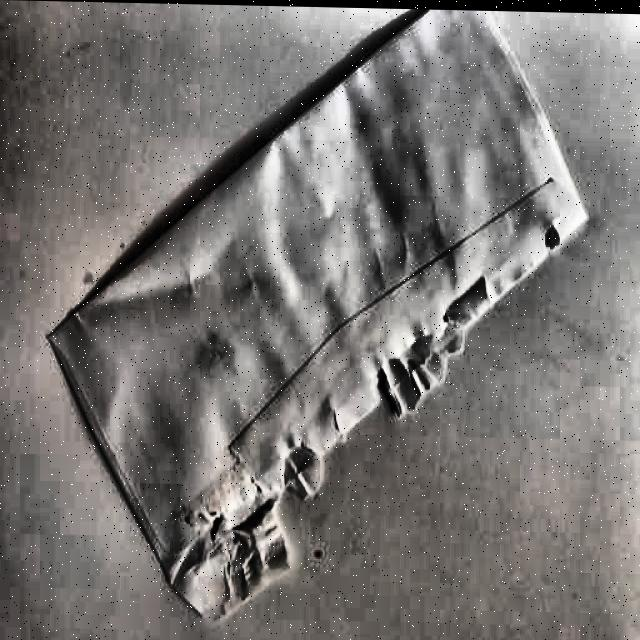paper: (47, 1, 590, 631)
